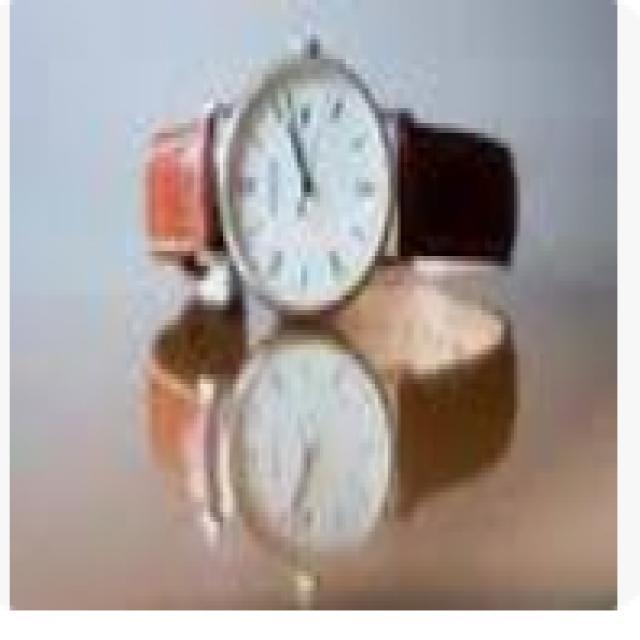Watch: (144, 31, 518, 313)
